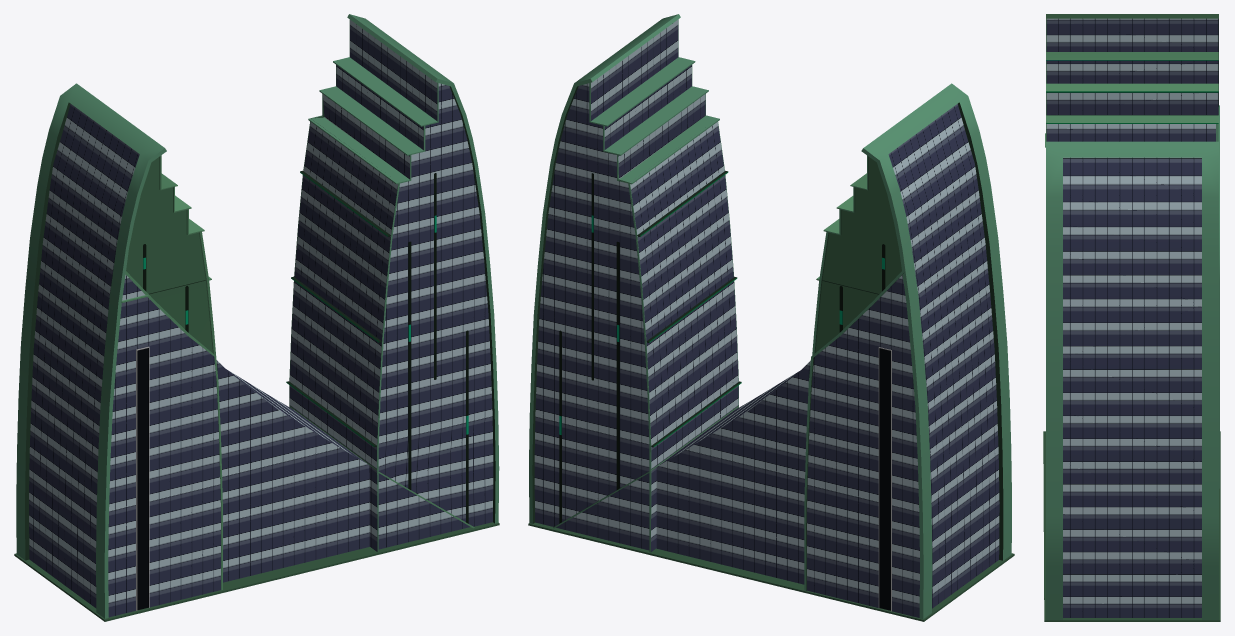
File: Building_Kyowon_002_2st_L1.fbx
The picture shows the model from 3 angles, left to right: view 1: azimuth 30°, elevation 25°; view 2: azimuth 150°, elevation 25°; view 3: azimuth 270°, elevation 25°; orthographic projection. The views are drawn at different scales.
Visible parts, largest first — view 1: Building_Kyowon_002_2st_L1; view 2: Building_Kyowon_002_2st_L1; view 3: Building_Kyowon_002_2st_L1.
Part boxes in pixels (box(x1,y1,x2,y2)): Building_Kyowon_002_2st_L1: box(14, 14, 499, 621); Building_Kyowon_002_2st_L1: box(528, 14, 1014, 621); Building_Kyowon_002_2st_L1: box(1043, 14, 1220, 621).
Bounding box in the file's own units: 72.48 × 28.73 × 80.75.
